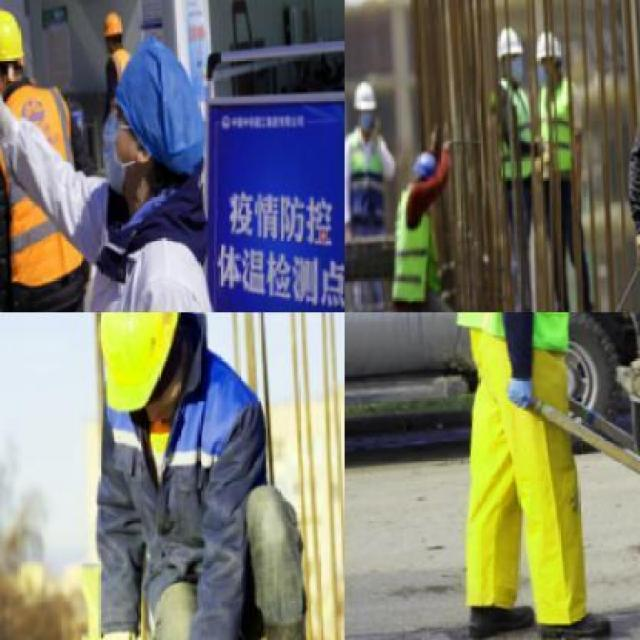vest: (91, 349, 275, 611), (0, 86, 89, 291), (442, 312, 576, 368), (385, 180, 437, 311), (344, 119, 390, 246), (483, 77, 534, 186), (532, 77, 574, 177), (105, 49, 132, 100)
